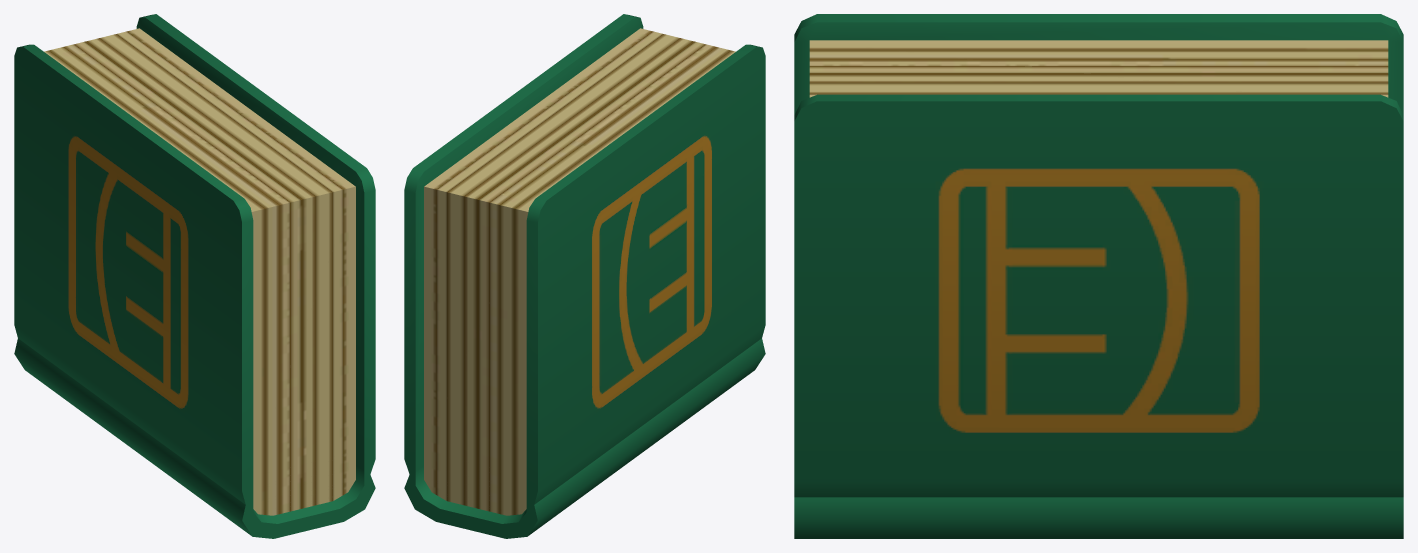
Rendered from book green.glb.
3 renders of one model, left to right at view 1: azimuth 30°, elevation 25°; view 2: azimuth 150°, elevation 25°; view 3: azimuth 270°, elevation 25°, orthographic. The views are drawn at different scales.
Visible parts, largest first — view 1: Book_LOD0; view 2: Book_LOD0; view 3: Book_LOD0.
Boxes of the visible parts, left/top/right/bottom form: Book_LOD0: left=14, top=14, right=375, bottom=538; Book_LOD0: left=404, top=14, right=765, bottom=538; Book_LOD0: left=794, top=14, right=1403, bottom=538.
Size of the model in its own units: 0.1223 by 0.2972 by 0.3614.
Materials: 1 (1 with a texture image).
